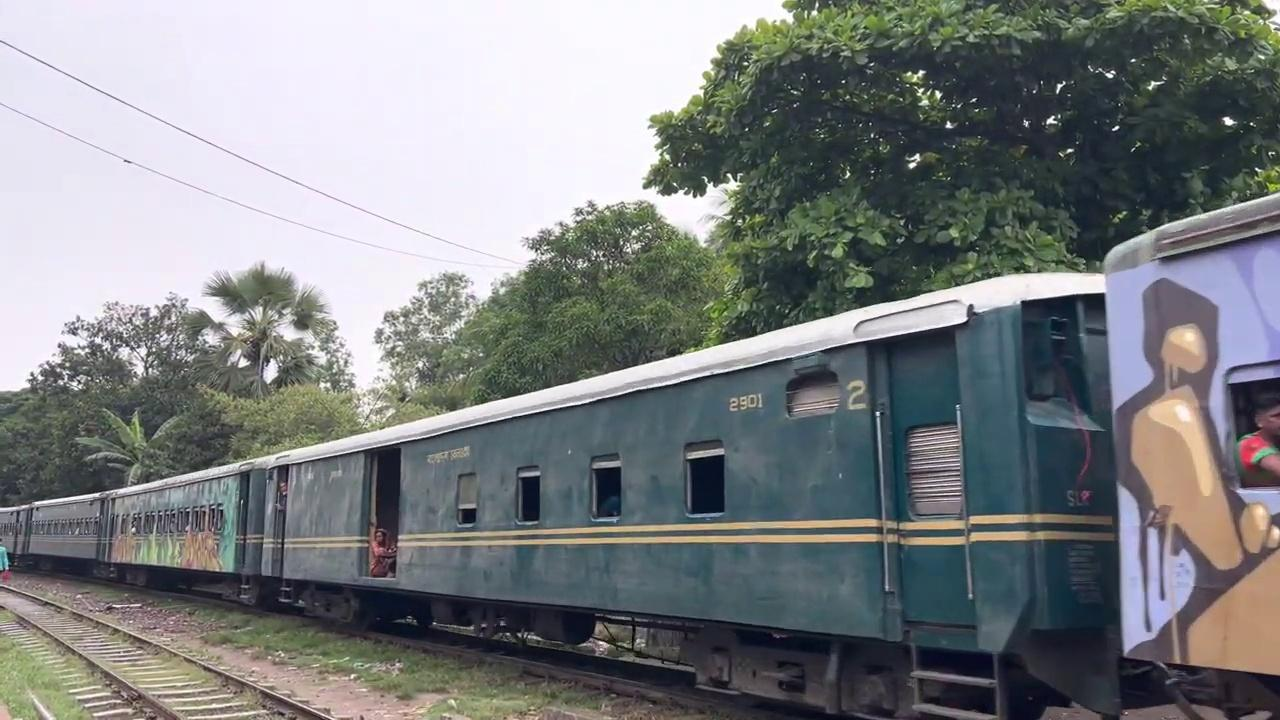Fence: (1235, 388, 1279, 488), (368, 527, 397, 577), (0, 538, 10, 581)
Garbage: (872, 408, 891, 594)
Motorcycle: (0, 579, 335, 718)
Potted-plant: (1, 190, 1278, 718)
Railroad-crossing: (445, 198, 726, 406), (181, 259, 335, 399), (370, 268, 480, 416), (74, 405, 187, 487)
